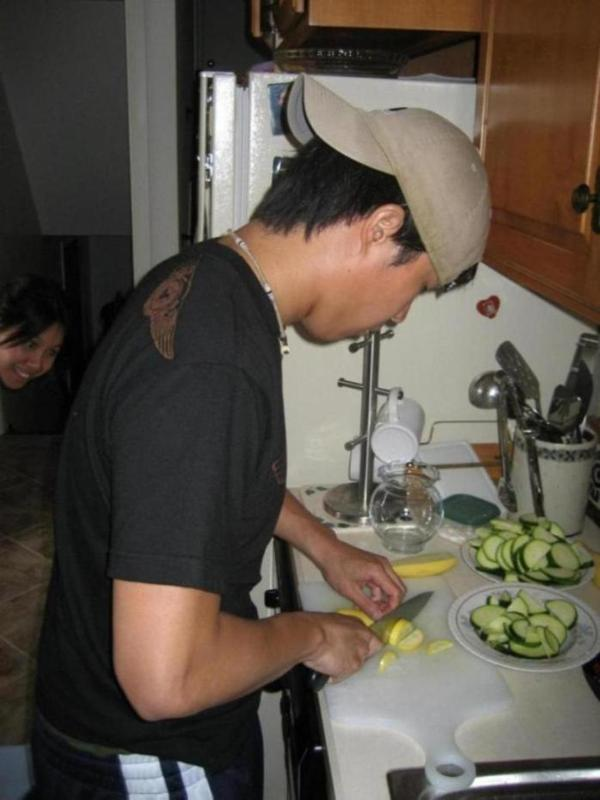person: (30, 77, 489, 796)
